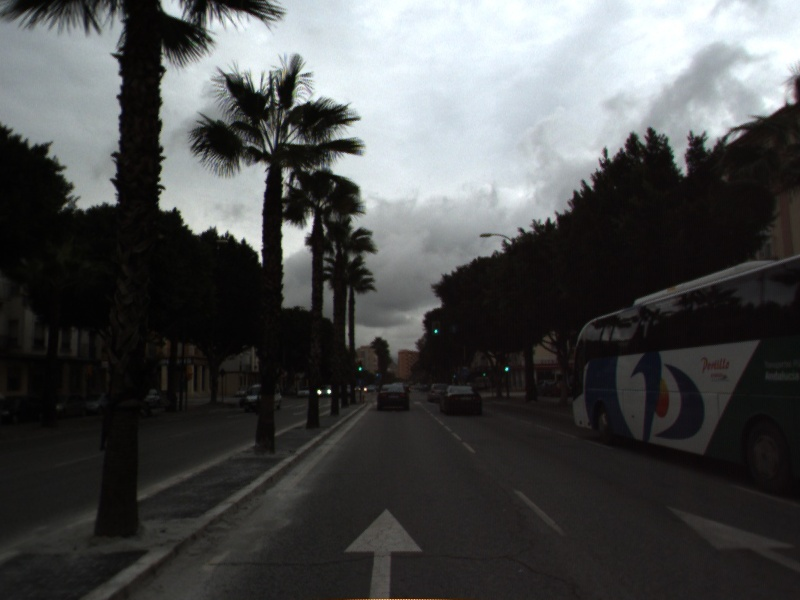STRAIGHT: (661, 500, 800, 574), (340, 505, 426, 600)
